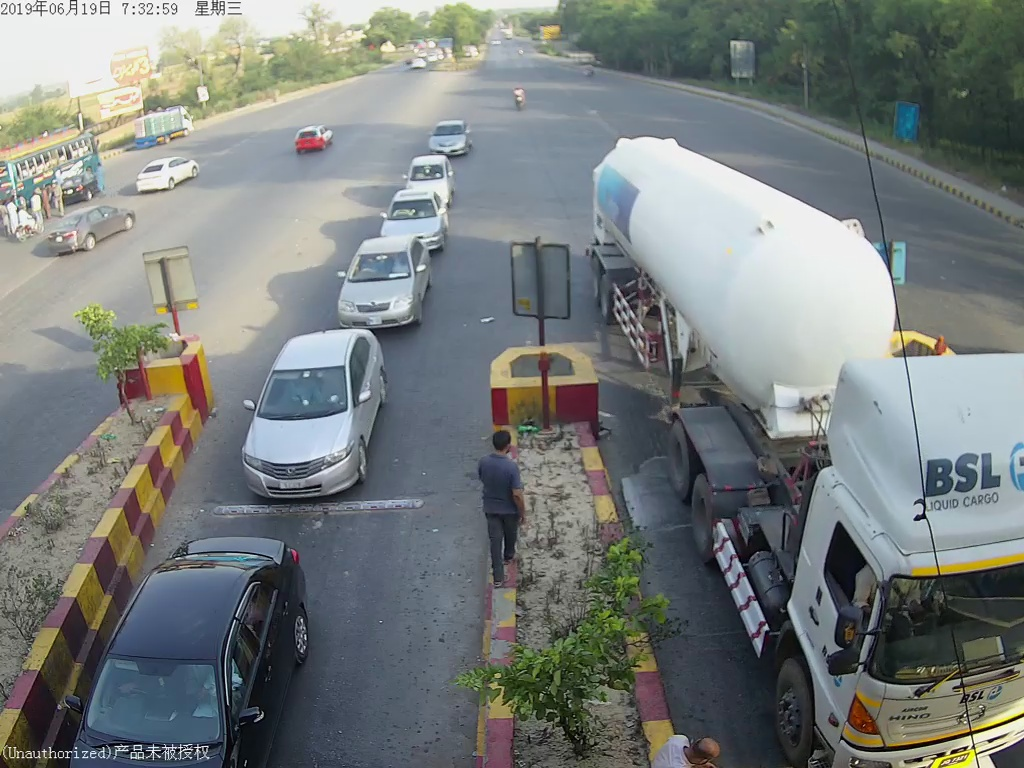Cat-1: (227, 318, 422, 510), (329, 235, 434, 318)
Cat-5: (587, 127, 1024, 763)
